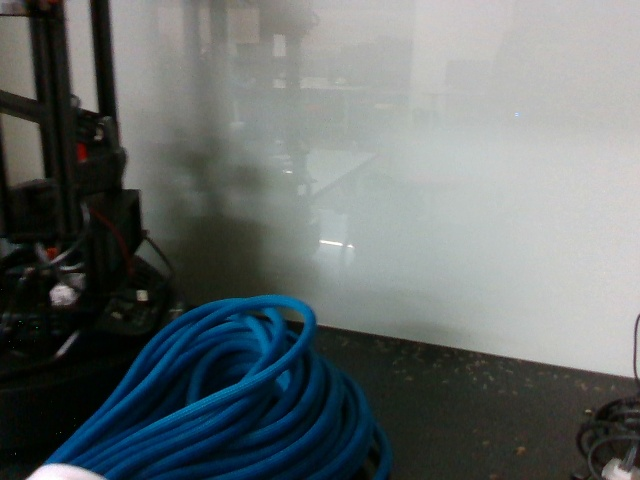rope: (18, 290, 403, 480)
